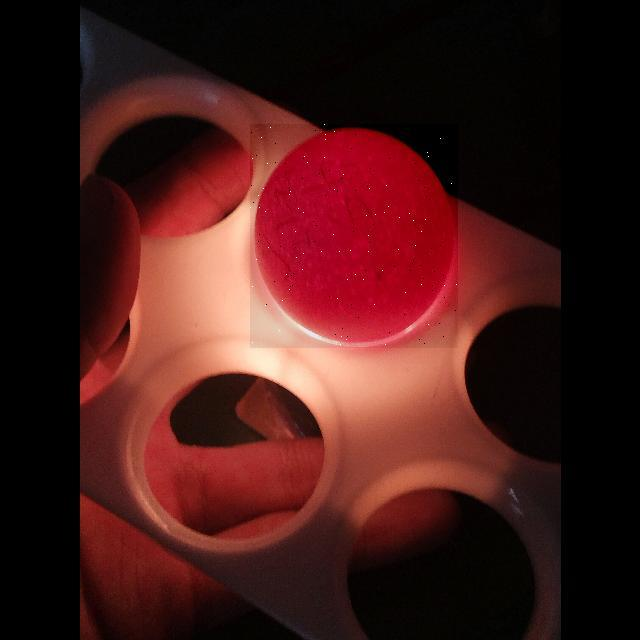Infertile: (250, 124, 458, 348)
